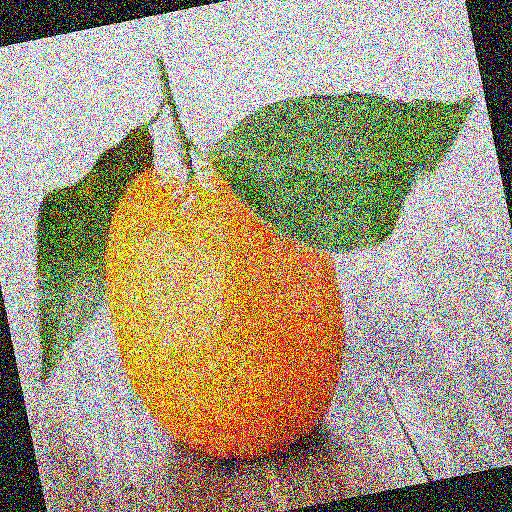fruit: (31, 180, 223, 512)
